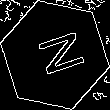N_W: (26, 28, 84, 82)
